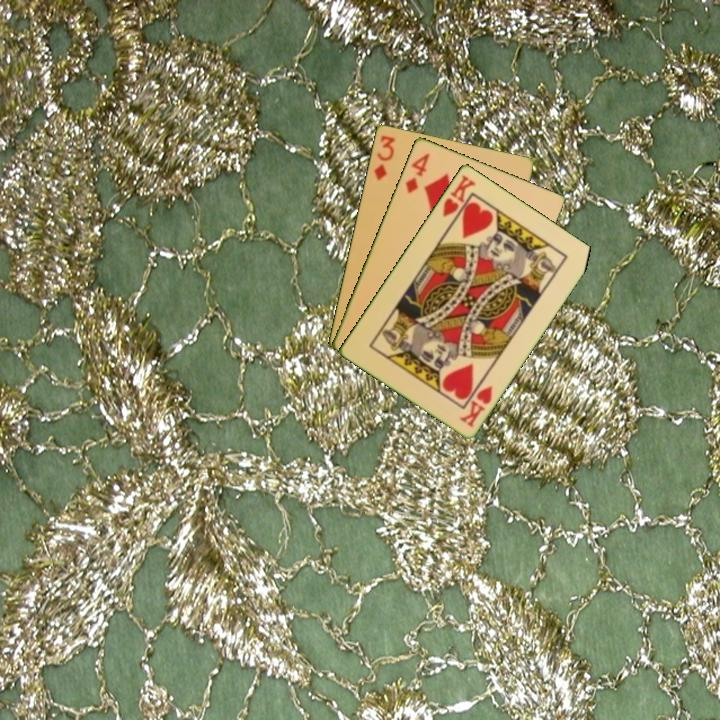3d: (370, 132, 398, 183)
4d: (402, 149, 432, 196)
Kh: (439, 171, 478, 227), (456, 382, 495, 430)
